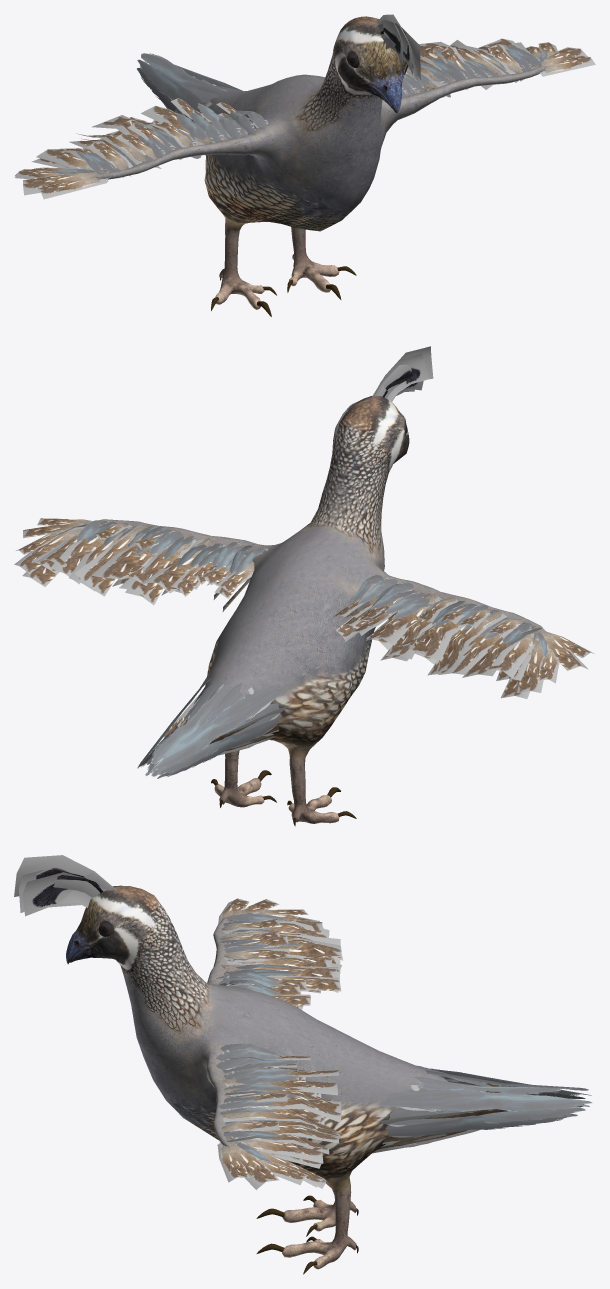
File: Row_Quail.fbx
The picture shows the model from 3 angles, top to bottom: view 1: azimuth 30°, elevation 25°; view 2: azimuth 150°, elevation 25°; view 3: azimuth 270°, elevation 25°; orthographic projection. The views are drawn at different scales.
Visible parts, largest first — view 1: Quail_body, Quail_feather_Red, Quail_feather_Blue, Quail_feather_Front; view 2: Quail_body, Quail_feather_Red, Quail_feather_Blue, Quail_feather_Front; view 3: Quail_body, Quail_feather_Red, Quail_feather_Blue, Quail_feather_Front.
Part boxes in pixels (left/top/right/bottom): Quail_body: left=91, top=16, right=546, bottom=316; Quail_feather_Red: left=14, top=38, right=595, bottom=199; Quail_feather_Blue: left=51, top=45, right=547, bottom=180; Quail_feather_Front: left=376, top=14, right=420, bottom=81; Quail_body: left=100, top=396, right=546, bottom=826; Quail_feather_Red: left=14, top=518, right=594, bottom=755; Quail_feather_Blue: left=52, top=520, right=547, bottom=778; Quail_feather_Front: left=371, top=346, right=433, bottom=401; Quail_body: left=66, top=885, right=448, bottom=1274; Quail_feather_Red: left=217, top=898, right=513, bottom=1189; Quail_feather_Blue: left=215, top=912, right=592, bottom=1163; Quail_feather_Front: left=14, top=855, right=116, bottom=916.
Size of the model in its own units: 9 by 5.59 by 7.73.
4 materials, 4 textured.
